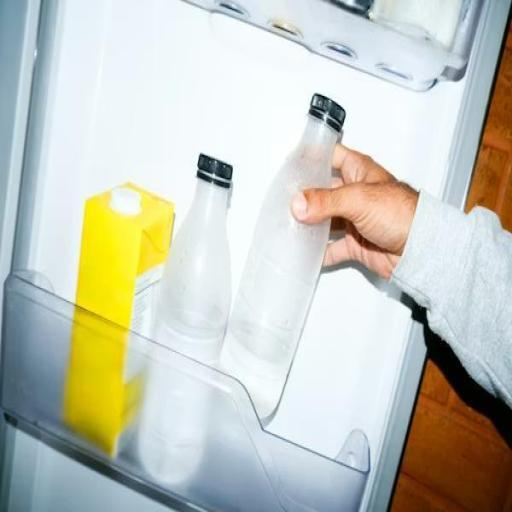bottle: (217, 88, 351, 424), (128, 144, 235, 492)
